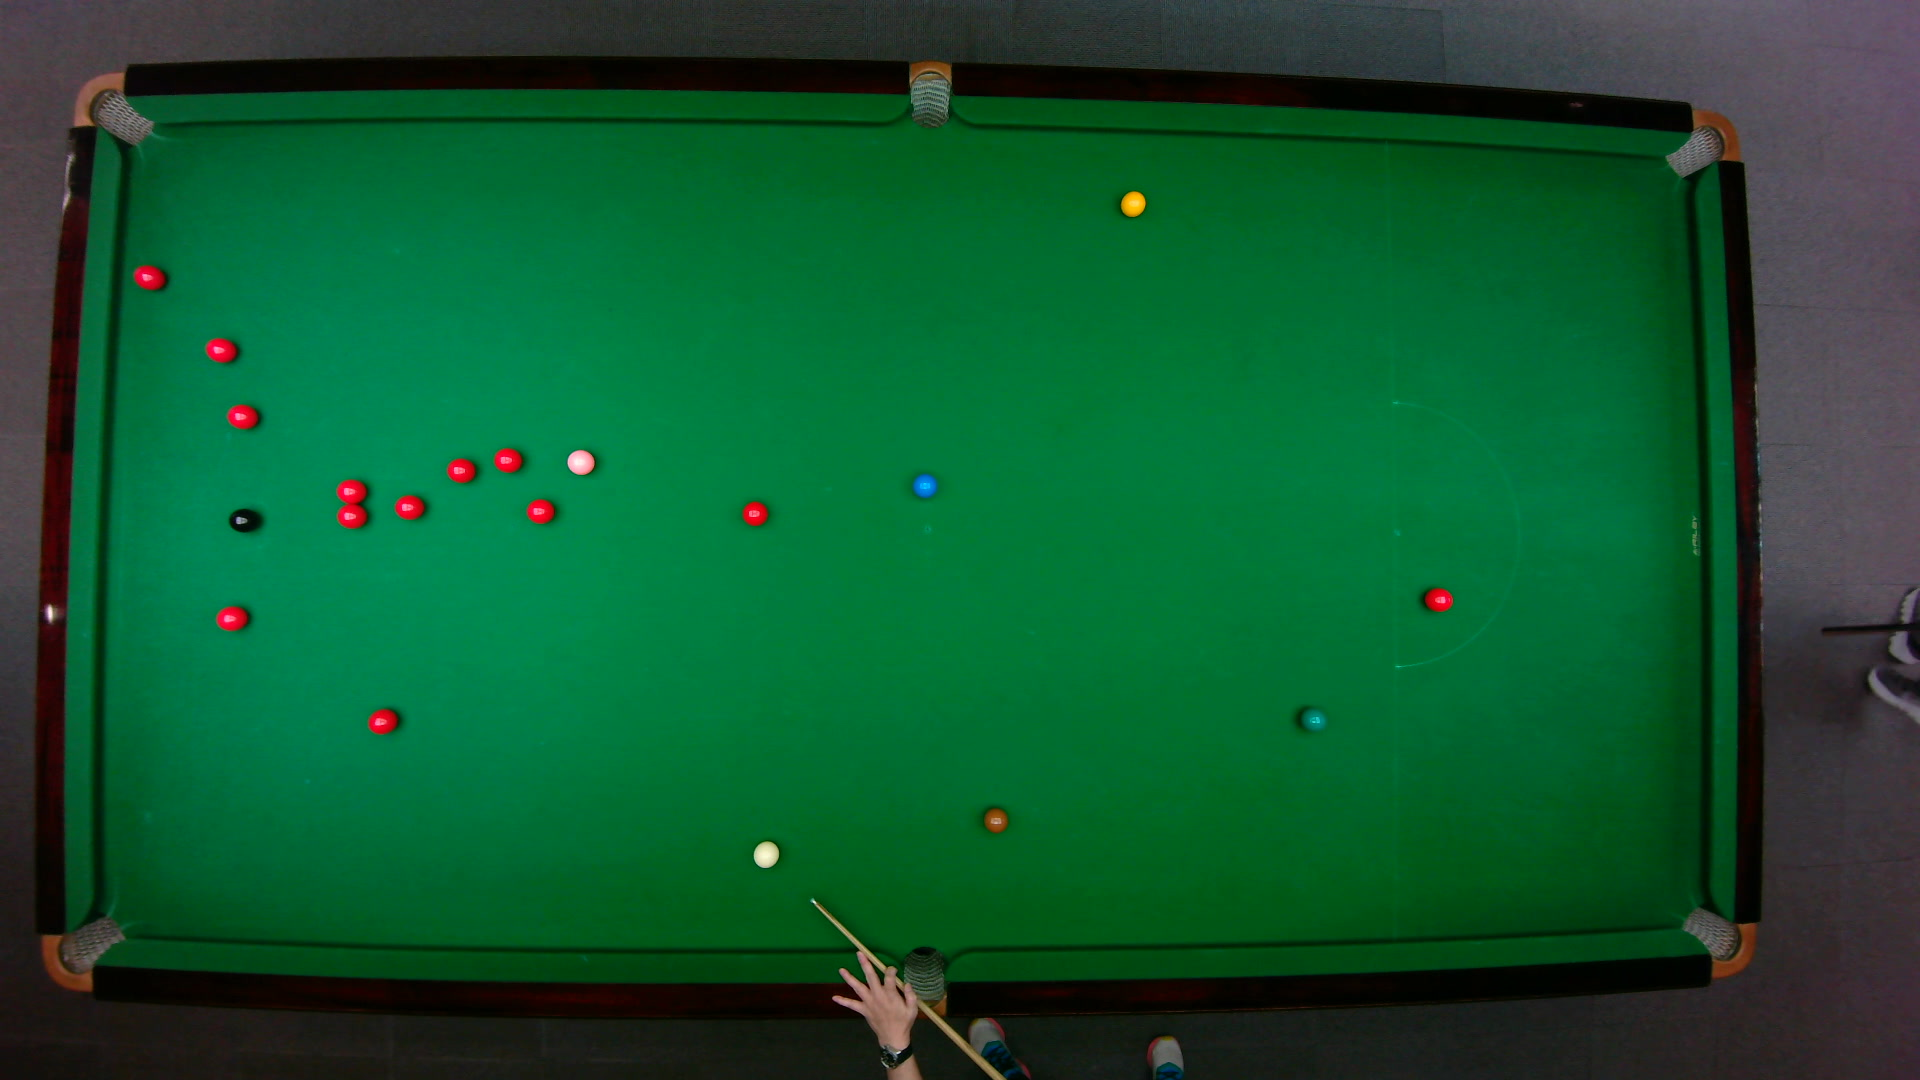bag: (40, 913, 128, 992), (71, 71, 156, 148), (1679, 905, 1756, 978), (1663, 108, 1741, 179), (901, 944, 945, 1019), (909, 59, 951, 131)
black: (227, 506, 260, 534)
blue: (910, 472, 939, 498)
brown: (981, 806, 1010, 833)
cue: (807, 895, 1010, 1080)
green: (1298, 705, 1329, 733)
pink: (564, 448, 597, 477)
red: (131, 262, 167, 291), (214, 605, 251, 633), (203, 336, 239, 364), (367, 707, 400, 736), (225, 404, 261, 430), (525, 497, 556, 526), (393, 493, 426, 521), (335, 477, 369, 504), (335, 504, 369, 530), (1423, 585, 1455, 613), (492, 446, 524, 473), (444, 458, 477, 484), (741, 500, 770, 527)
white: (752, 839, 781, 869)
yellow: (1118, 189, 1149, 219)
zone: (1391, 401, 1520, 669)
